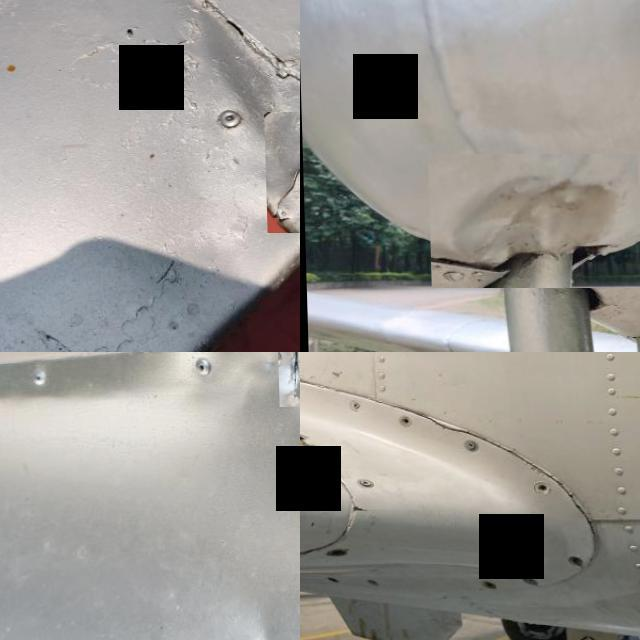Crack: (261, 112, 300, 232), (552, 456, 596, 533), (494, 445, 556, 483), (418, 412, 474, 438), (275, 352, 300, 407), (300, 428, 332, 460), (336, 506, 376, 516)
Dent: (426, 154, 640, 288), (218, 352, 300, 640), (157, 595, 300, 640)
Missing_Fastener: (474, 580, 496, 590), (323, 548, 344, 558), (534, 483, 548, 495), (396, 416, 408, 428), (567, 556, 579, 566), (322, 578, 336, 584)
